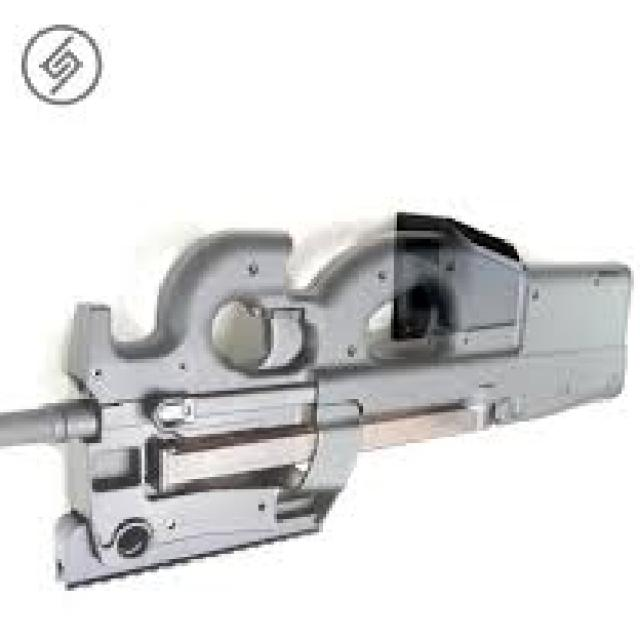Gun: (0, 200, 640, 594)
